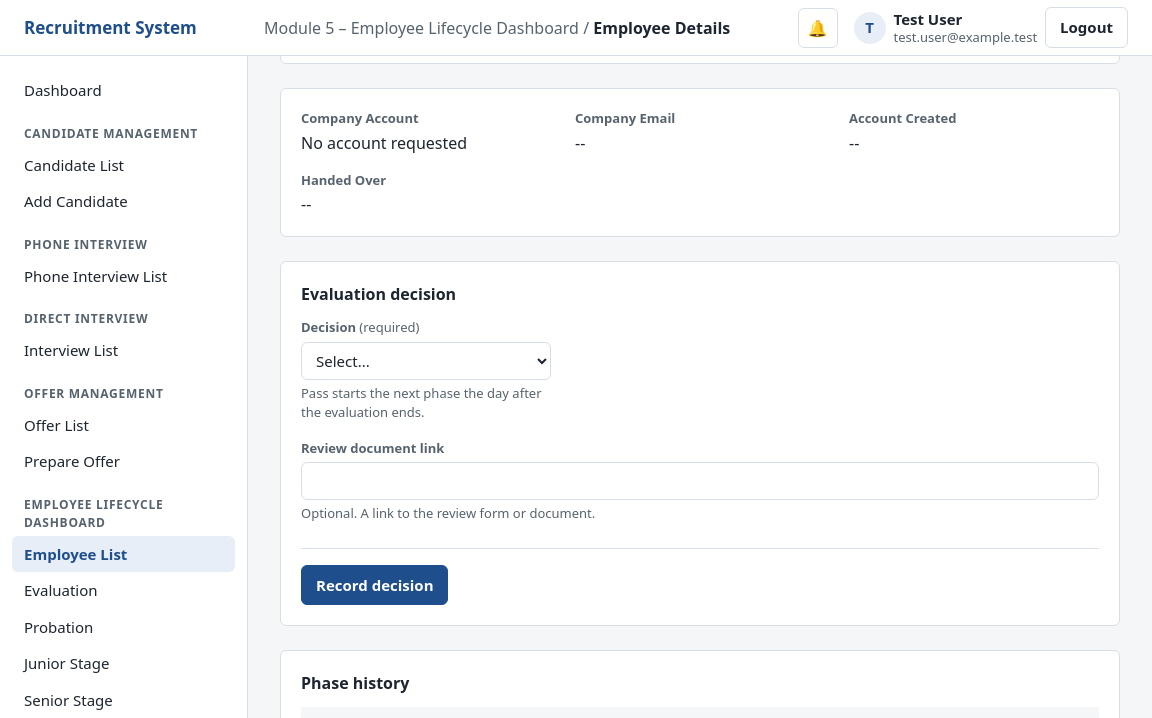
Test: employee details › records a pass and shows the next phase
(page scrolled)
Expected: the heading "Evaluation decision" is shown, [301,283,456,305]
Select "Pass" in the dropdown labelled "Decision (required)": [426, 360] box [301,342,551,380]
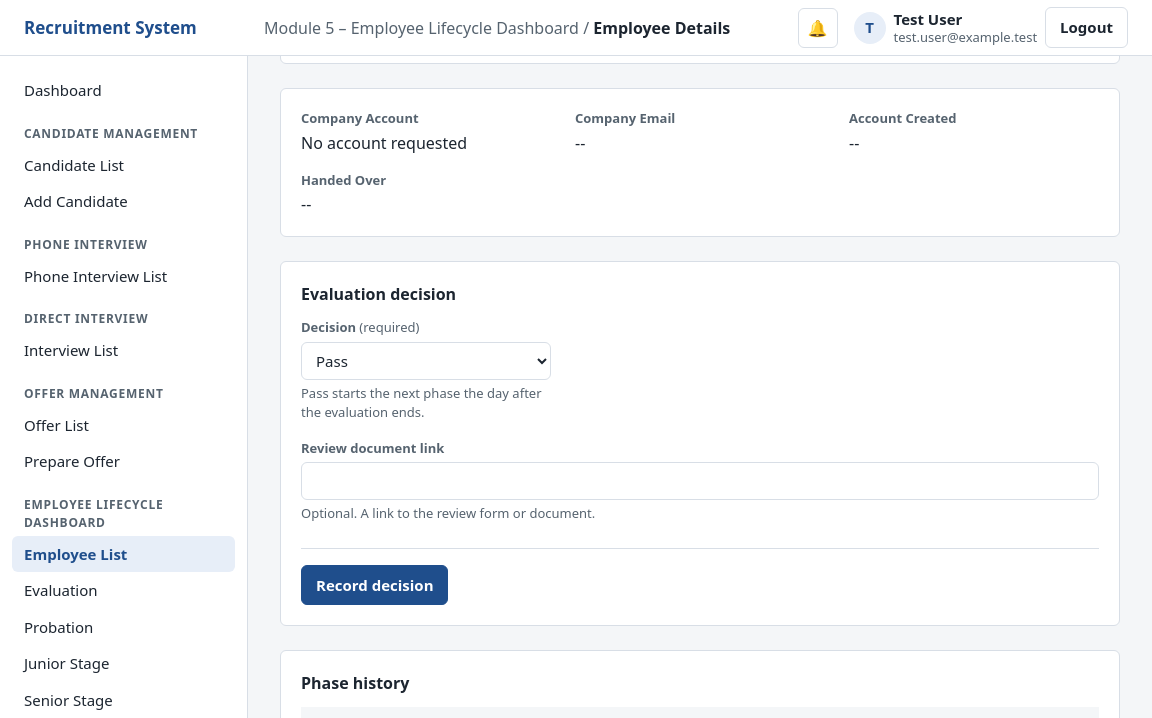
In the field labelled "Review document link": [700, 481] box [301,462,1099,500], type "https://example.test/review"
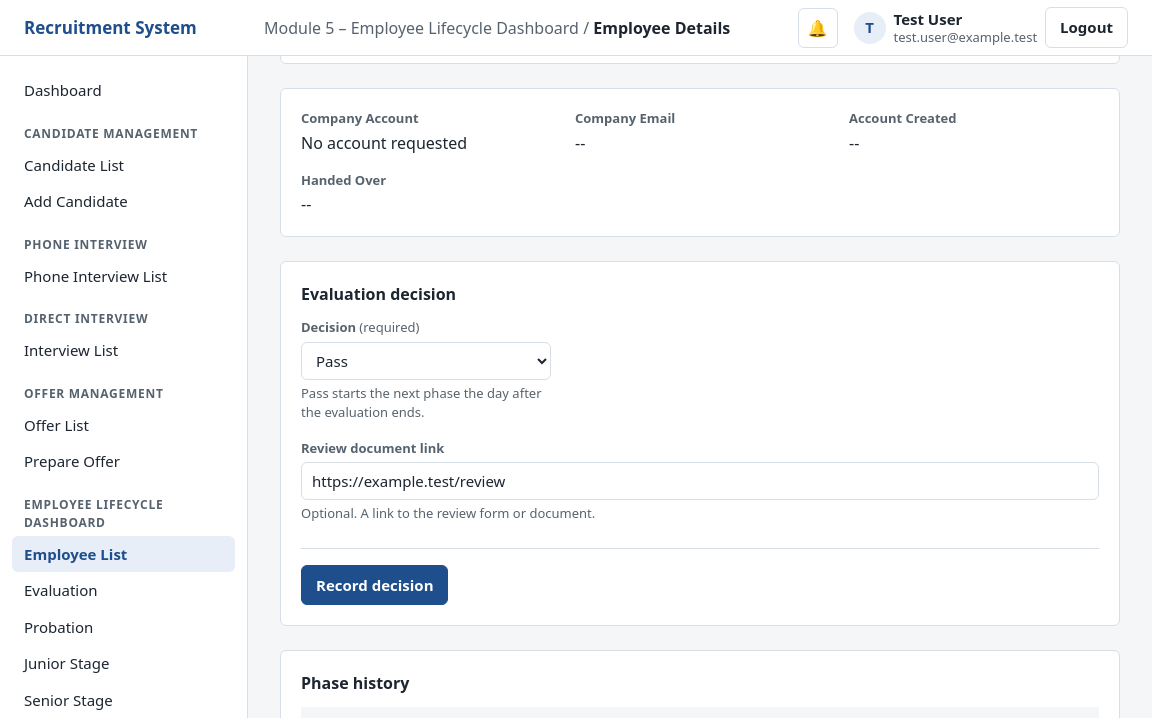
Click the button "Record decision": [375, 585] box [301,564,448,605]
(page scrolled)
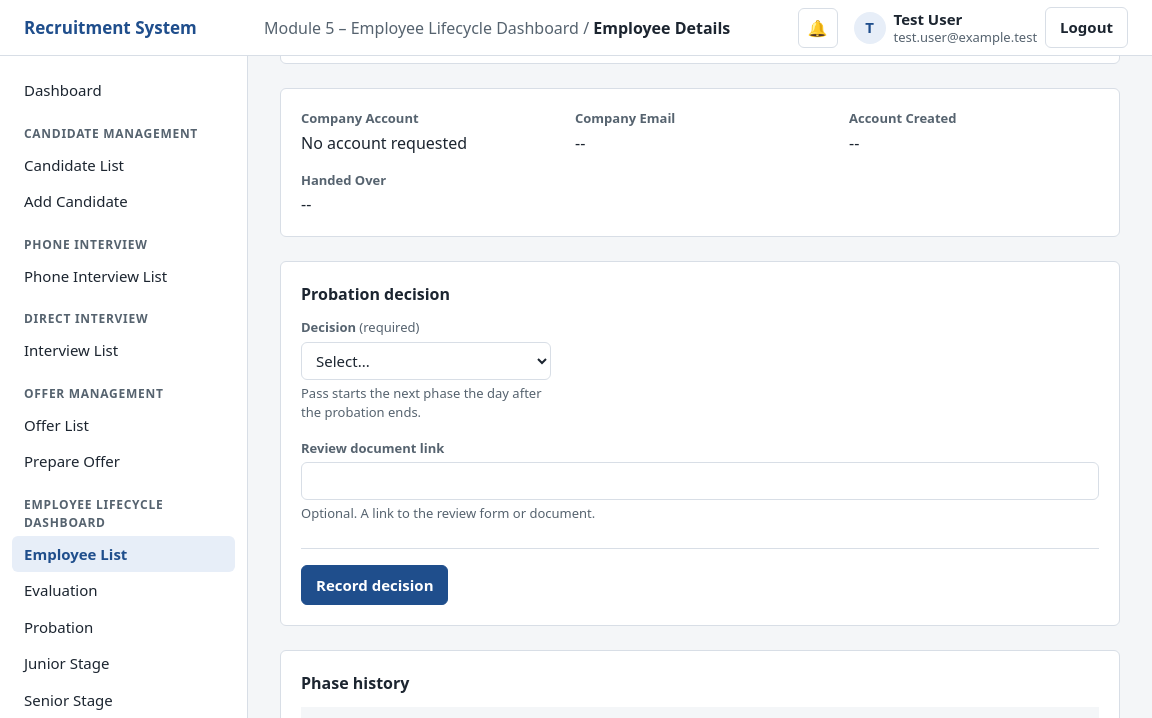
Now the heading "Probation decision" is shown, box [301,283,450,305]
